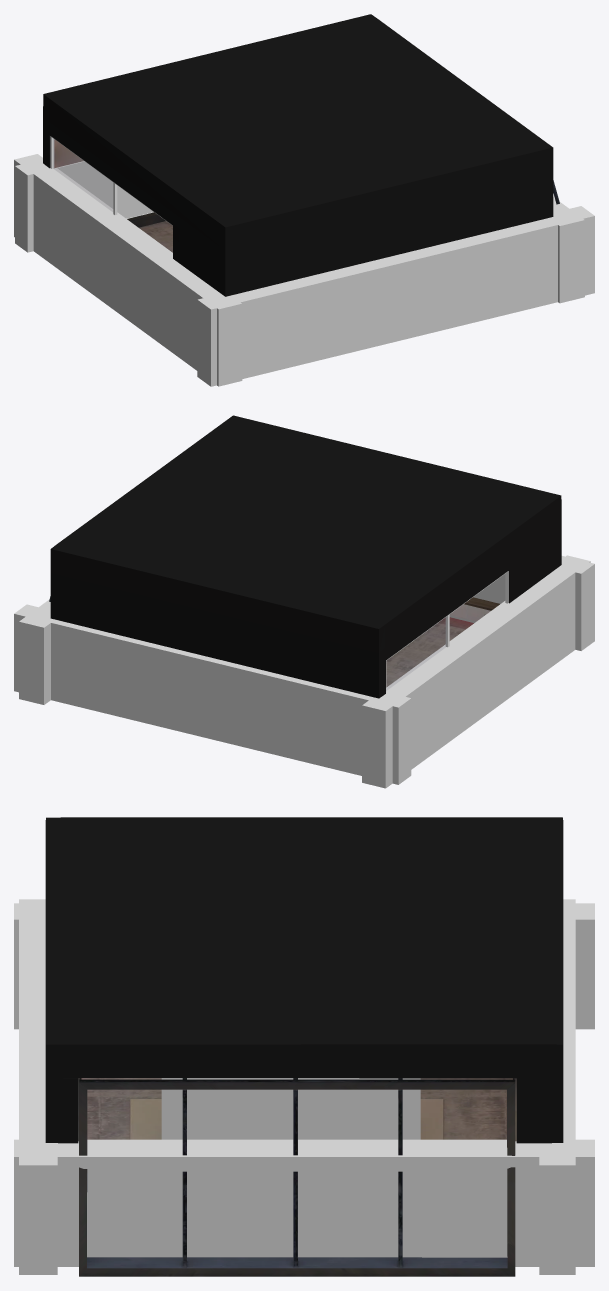
The model's file is meeting.glb.
3 renders of one model, top to bottom at view 1: azimuth 30°, elevation 25°; view 2: azimuth 150°, elevation 25°; view 3: azimuth 270°, elevation 25°, orthographic. The views are drawn at different scales.
Parts seen in each view (by area): view 1: mur ext_noir_0, COL_wall_s, COL_wall_w, COL_wall_n, COL_wall_e, bureau_sol_, bureaux_murs; view 2: mur ext_noir_0, COL_wall_n, COL_wall_w, COL_wall_e, COL_wall_s, bureau_sol_, bureaux_murs; view 3: mur ext_noir_0, COL_wall_e, bureaux_murs, COL_table, COL_wall_s, bureau_sol_, COL_wall_n, COL_wall_w.
Boxes of the visible parts, x1,y1,x2,y2 form: mur ext_noir_0: (43, 14, 553, 296); COL_wall_s: (197, 206, 594, 386); COL_wall_w: (14, 154, 242, 386); COL_wall_n: (15, 161, 153, 252); COL_wall_e: (551, 197, 584, 303); bureau_sol_: (127, 212, 172, 252); bureaux_murs: (54, 139, 559, 204); mur ext_noir_0: (50, 415, 561, 698); COL_wall_n: (14, 604, 411, 784); COL_wall_w: (362, 555, 590, 788); COL_wall_e: (19, 599, 54, 704); COL_wall_s: (449, 556, 594, 650); bureau_sol_: (386, 617, 473, 687); bureaux_murs: (49, 596, 499, 621); mur ext_noir_0: (45, 817, 563, 1143); COL_wall_e: (14, 1139, 594, 1266); bureaux_murs: (79, 1078, 515, 1276); COL_table: (161, 1078, 420, 1139); COL_wall_s: (19, 899, 57, 1274); bureau_sol_: (78, 1078, 516, 1141); COL_wall_n: (539, 899, 575, 1274); COL_wall_w: (14, 903, 594, 1029).
Bounding box in the file's own units: 13.2 × 4.75 × 12.
6 materials, 2 textured.
